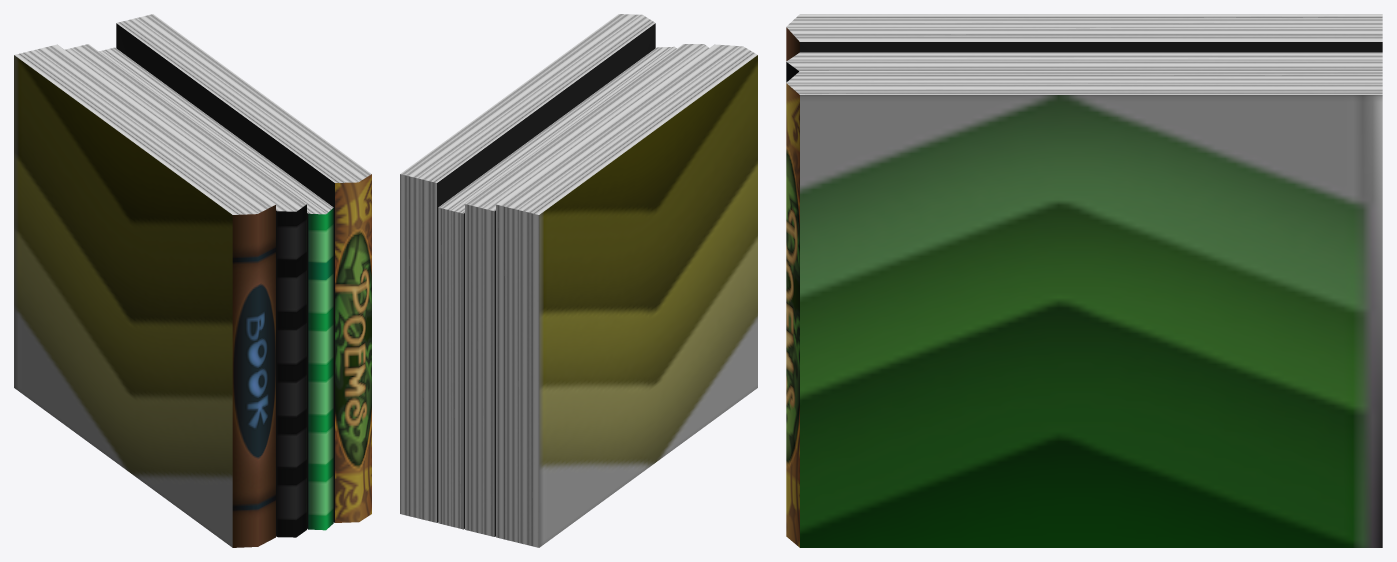
File: Books_D.FBX
3 views of the same model, side by side, from view 1: azimuth 30°, elevation 25°; view 2: azimuth 150°, elevation 25°; view 3: azimuth 270°, elevation 25° (orthographic). The views are drawn at different scales.
Visible parts, largest first — view 1: Books_03; view 2: Books_03; view 3: Books_03.
Part boxes in pixels (x1,y1,x2,y2): Books_03: (14, 14, 371, 547); Books_03: (400, 14, 757, 547); Books_03: (786, 14, 1382, 547).
Size of the model in its own units: 20.37 by 47.57 by 56.78.
